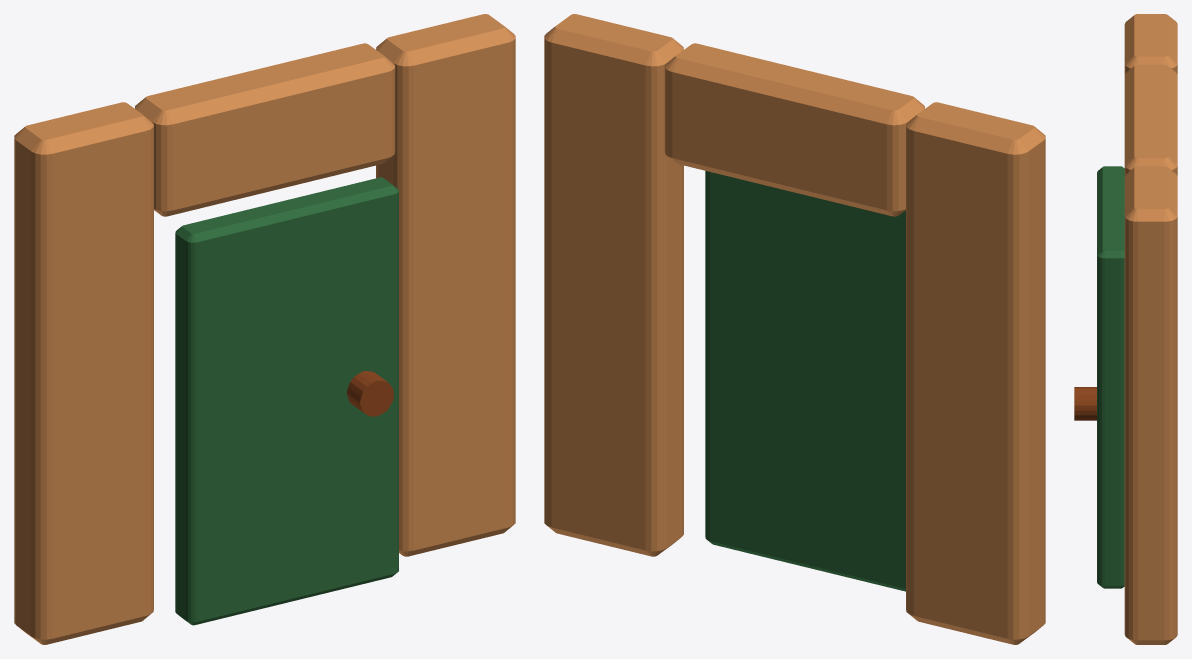
File: Wall_Door.obj
3 views of the same model, side by side, from view 1: azimuth 30°, elevation 25°; view 2: azimuth 150°, elevation 25°; view 3: azimuth 270°, elevation 25° (orthographic). The views are drawn at different scales.
Visible parts, largest first — view 1: Wall_Door_Door, Wall_Door_L, Wall_Door_R, Wall_Door_Top, Wall_Door_Knob; view 2: Wall_Door_Door, Wall_Door_L, Wall_Door_R, Wall_Door_Top; view 3: Wall_Door_R, Wall_Door_Door, Wall_Door_Top, Wall_Door_L, Wall_Door_Knob.
Boxes of the visible parts, left/top/right/bottom form: Wall_Door_Door: left=175, top=177, right=398, bottom=625; Wall_Door_L: left=14, top=102, right=153, bottom=644; Wall_Door_R: left=376, top=14, right=515, bottom=556; Wall_Door_Top: left=135, top=43, right=395, bottom=216; Wall_Door_Knob: left=346, top=371, right=393, bottom=416; Wall_Door_Door: left=705, top=171, right=905, bottom=591; Wall_Door_L: left=906, top=102, right=1045, bottom=644; Wall_Door_R: left=544, top=14, right=683, bottom=556; Wall_Door_Top: left=664, top=43, right=924, bottom=216; Wall_Door_R: left=1124, top=166, right=1177, bottom=644; Wall_Door_Door: left=1097, top=166, right=1124, bottom=588; Wall_Door_Top: left=1124, top=64, right=1177, bottom=176; Wall_Door_L: left=1124, top=14, right=1177, bottom=74; Wall_Door_Knob: left=1074, top=387, right=1096, bottom=420.
Bounding box in the file's own units: 2 × 2 × 0.43.
